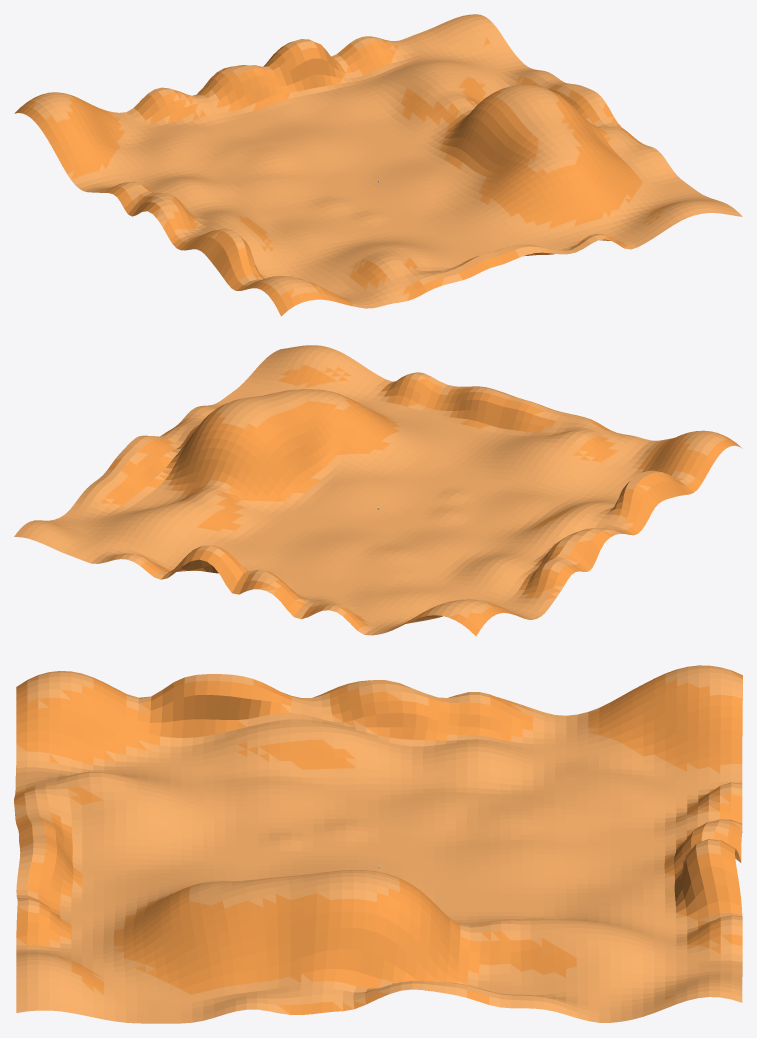
File: Terrain.fbx
3 views of the same model, one above another, from view 1: azimuth 30°, elevation 25°; view 2: azimuth 150°, elevation 25°; view 3: azimuth 270°, elevation 25° (orthographic). The views are drawn at different scales.
Visible parts, largest first — view 1: Plane; view 2: Plane; view 3: Plane.
Boxes of the visible parts, x1,y1,x2,y2 form: Plane: [14, 14, 742, 316]; Plane: [14, 345, 742, 636]; Plane: [14, 665, 742, 1023].
Size of the model in its own units: 39927 by 5250 by 39957.
